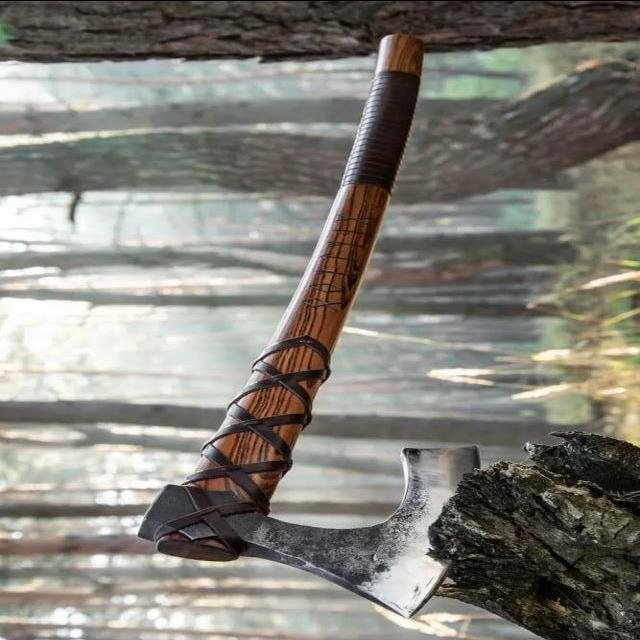axe: (137, 34, 483, 620)
